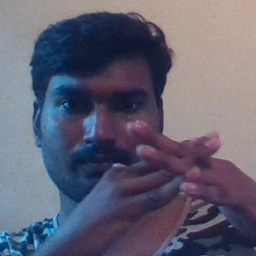W: (107, 104, 248, 229)
